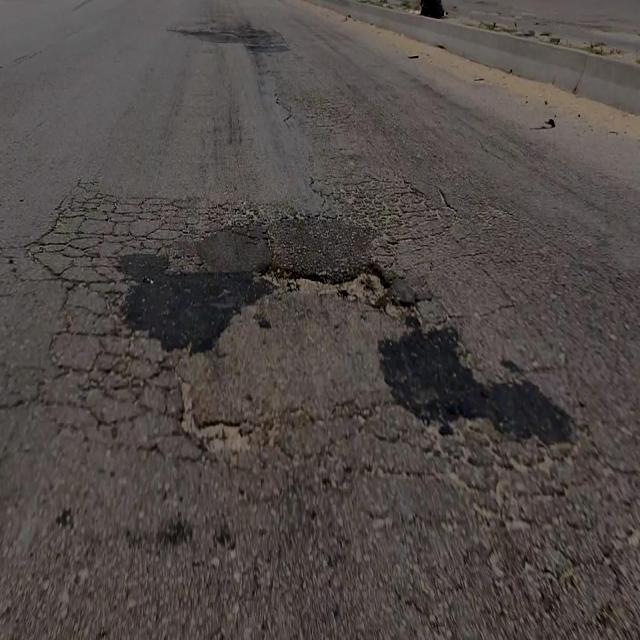Potholes: (253, 261, 394, 312)
